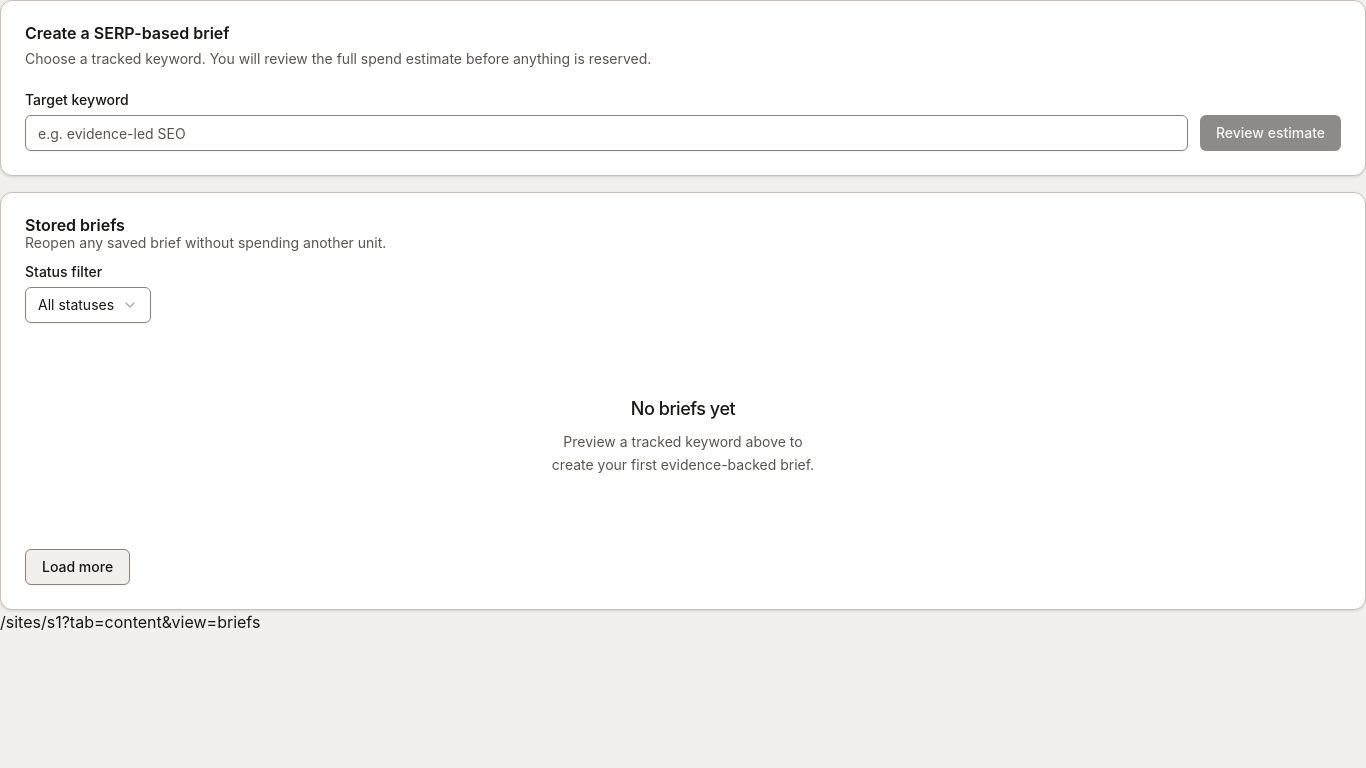
content briefs list and request flow › keeps a reviewed estimate inert if creation is disabled before confirmation
The image size is (1366, 768).
Step 1. Type "proof" into the field labelled "Target keyword" → (606, 133), box [25,115,1188,151]
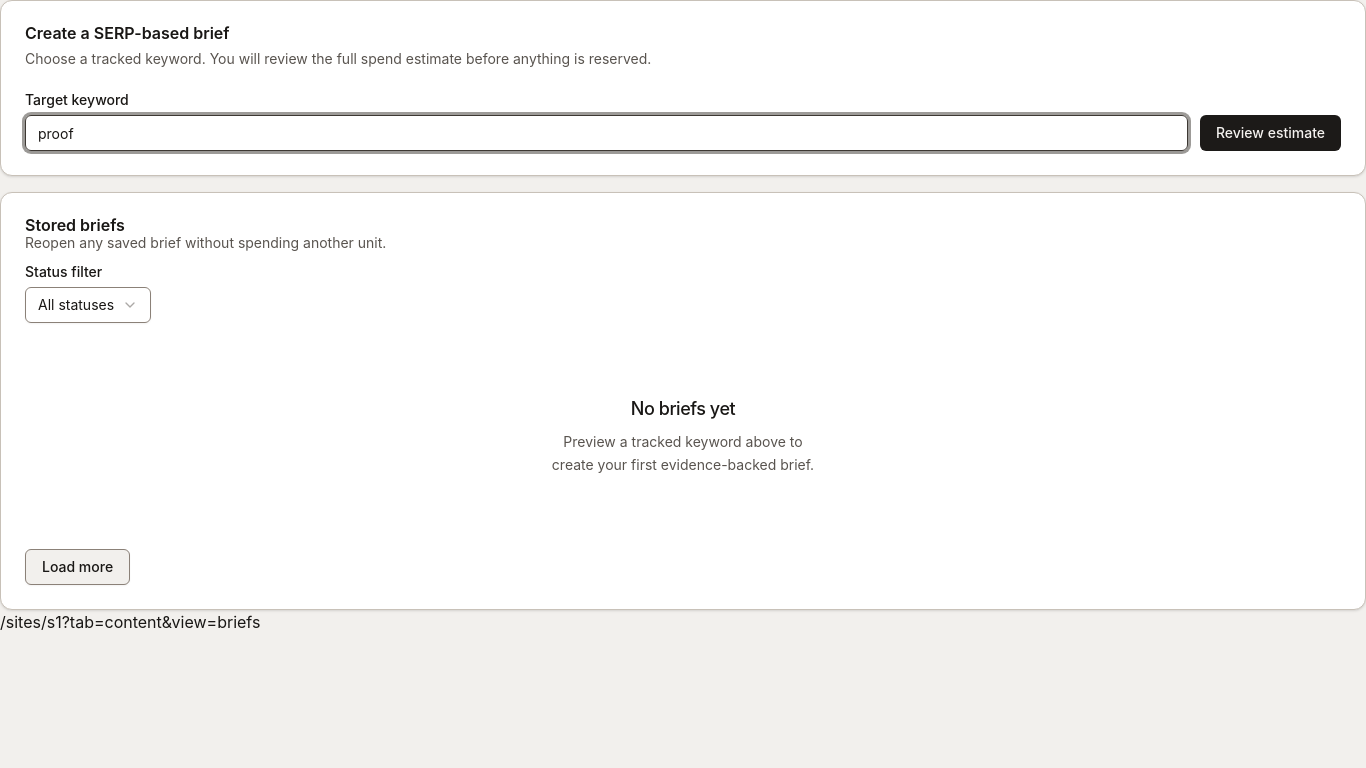
Step 2. Click the button "Review estimate" → (1270, 133), box [1200,115,1341,151]
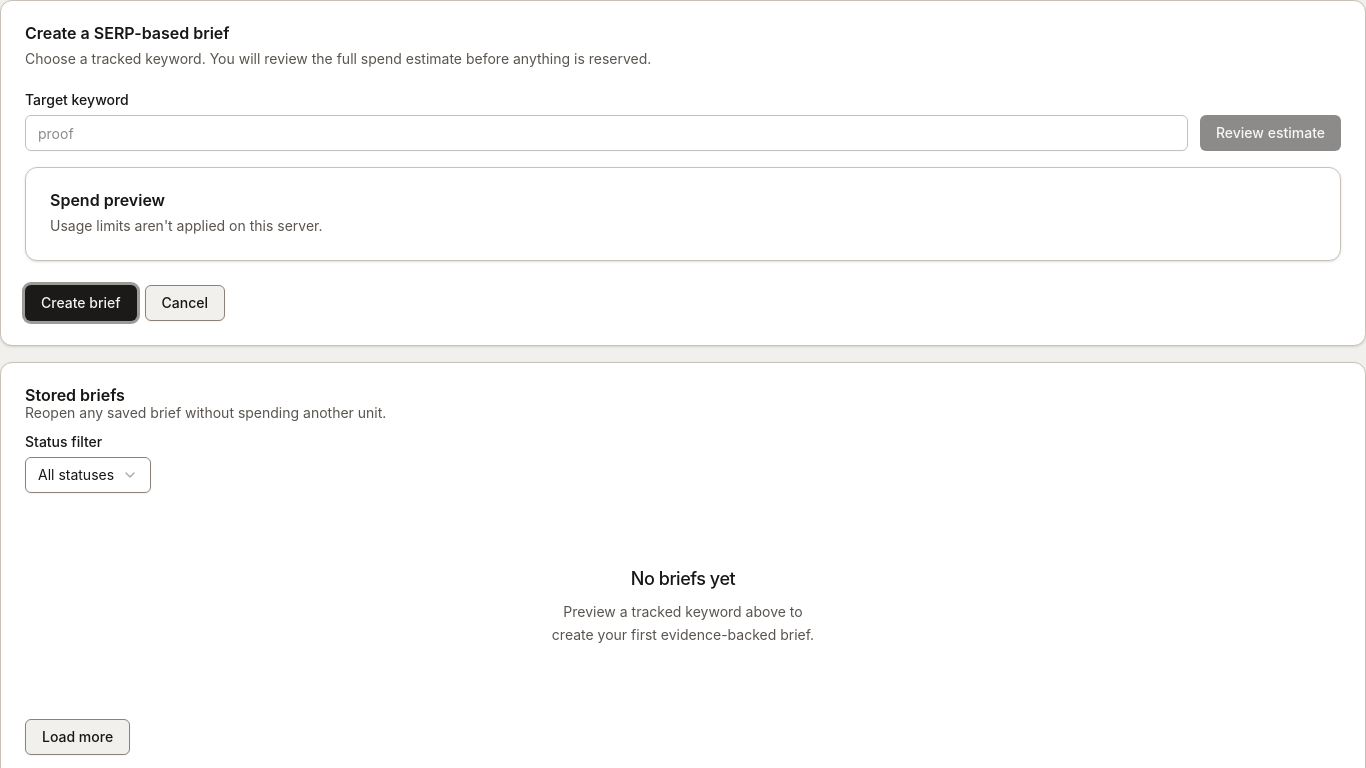
Now the button "Create brief" is enabled, box [25,285,137,321]
Step 3. Click the button "Load more" → (78, 736), box [25,718,130,754]
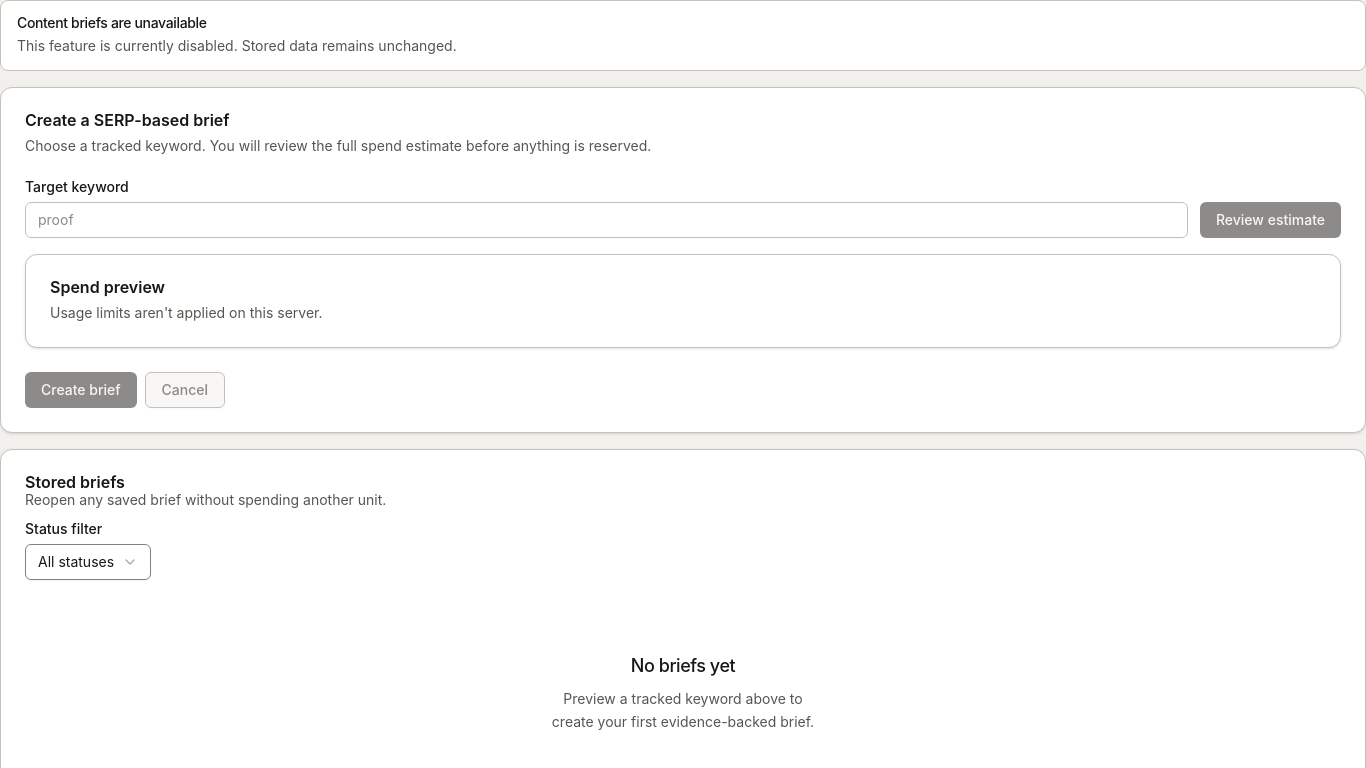
Now the button "Create brief" is disabled, box [25,372,137,408]
Now the message with test id "brief-state-disabled" is shown, box [0,0,1365,71]
